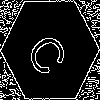C: (25, 25, 76, 80)
